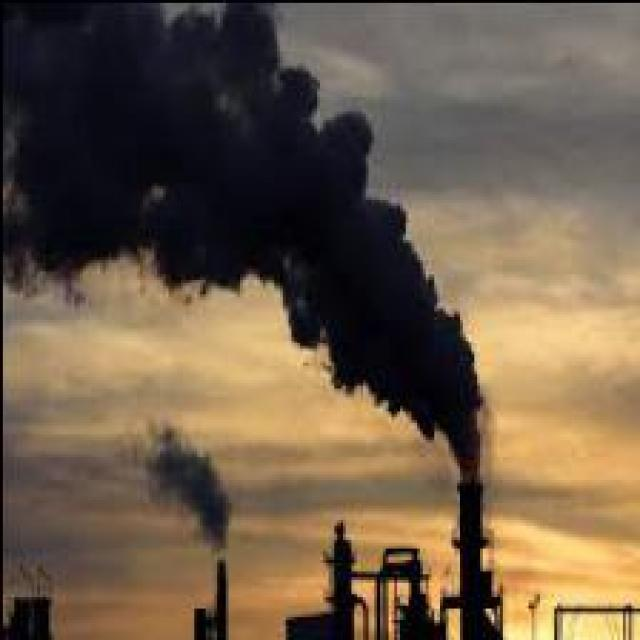Smoke: (2, 1, 482, 473), (138, 428, 229, 550)
